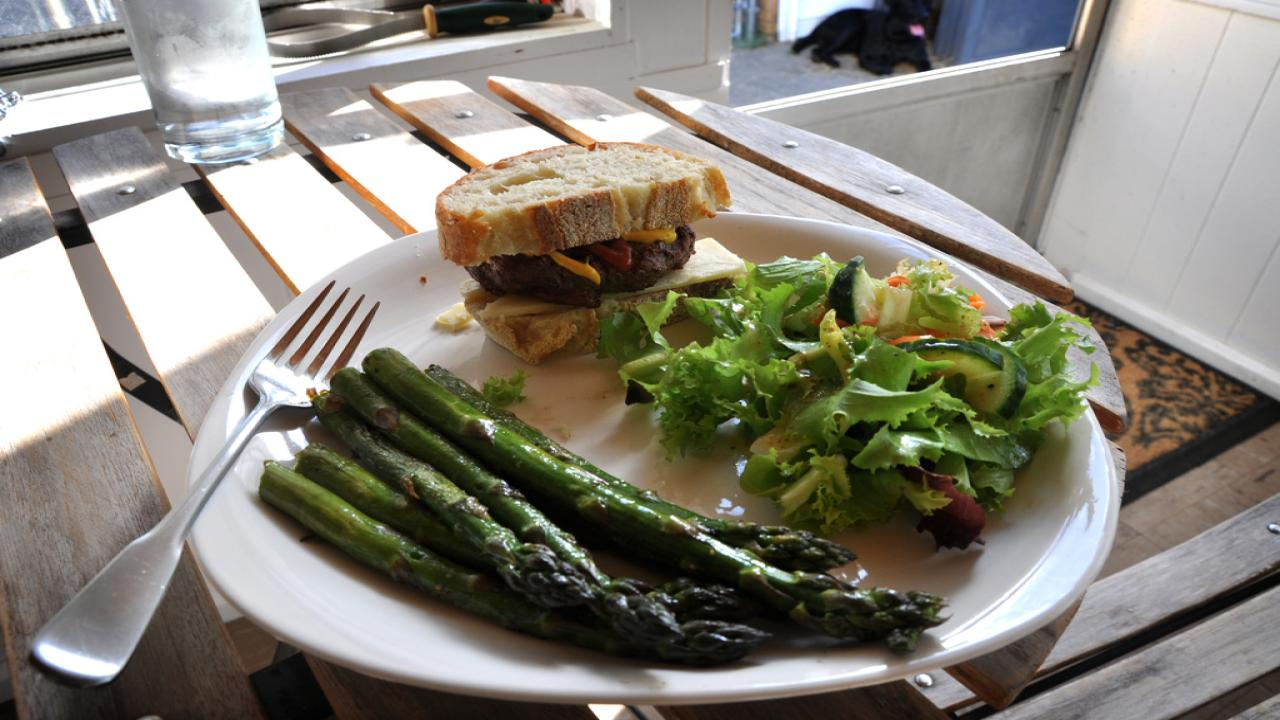fork: (30, 280, 384, 703)
